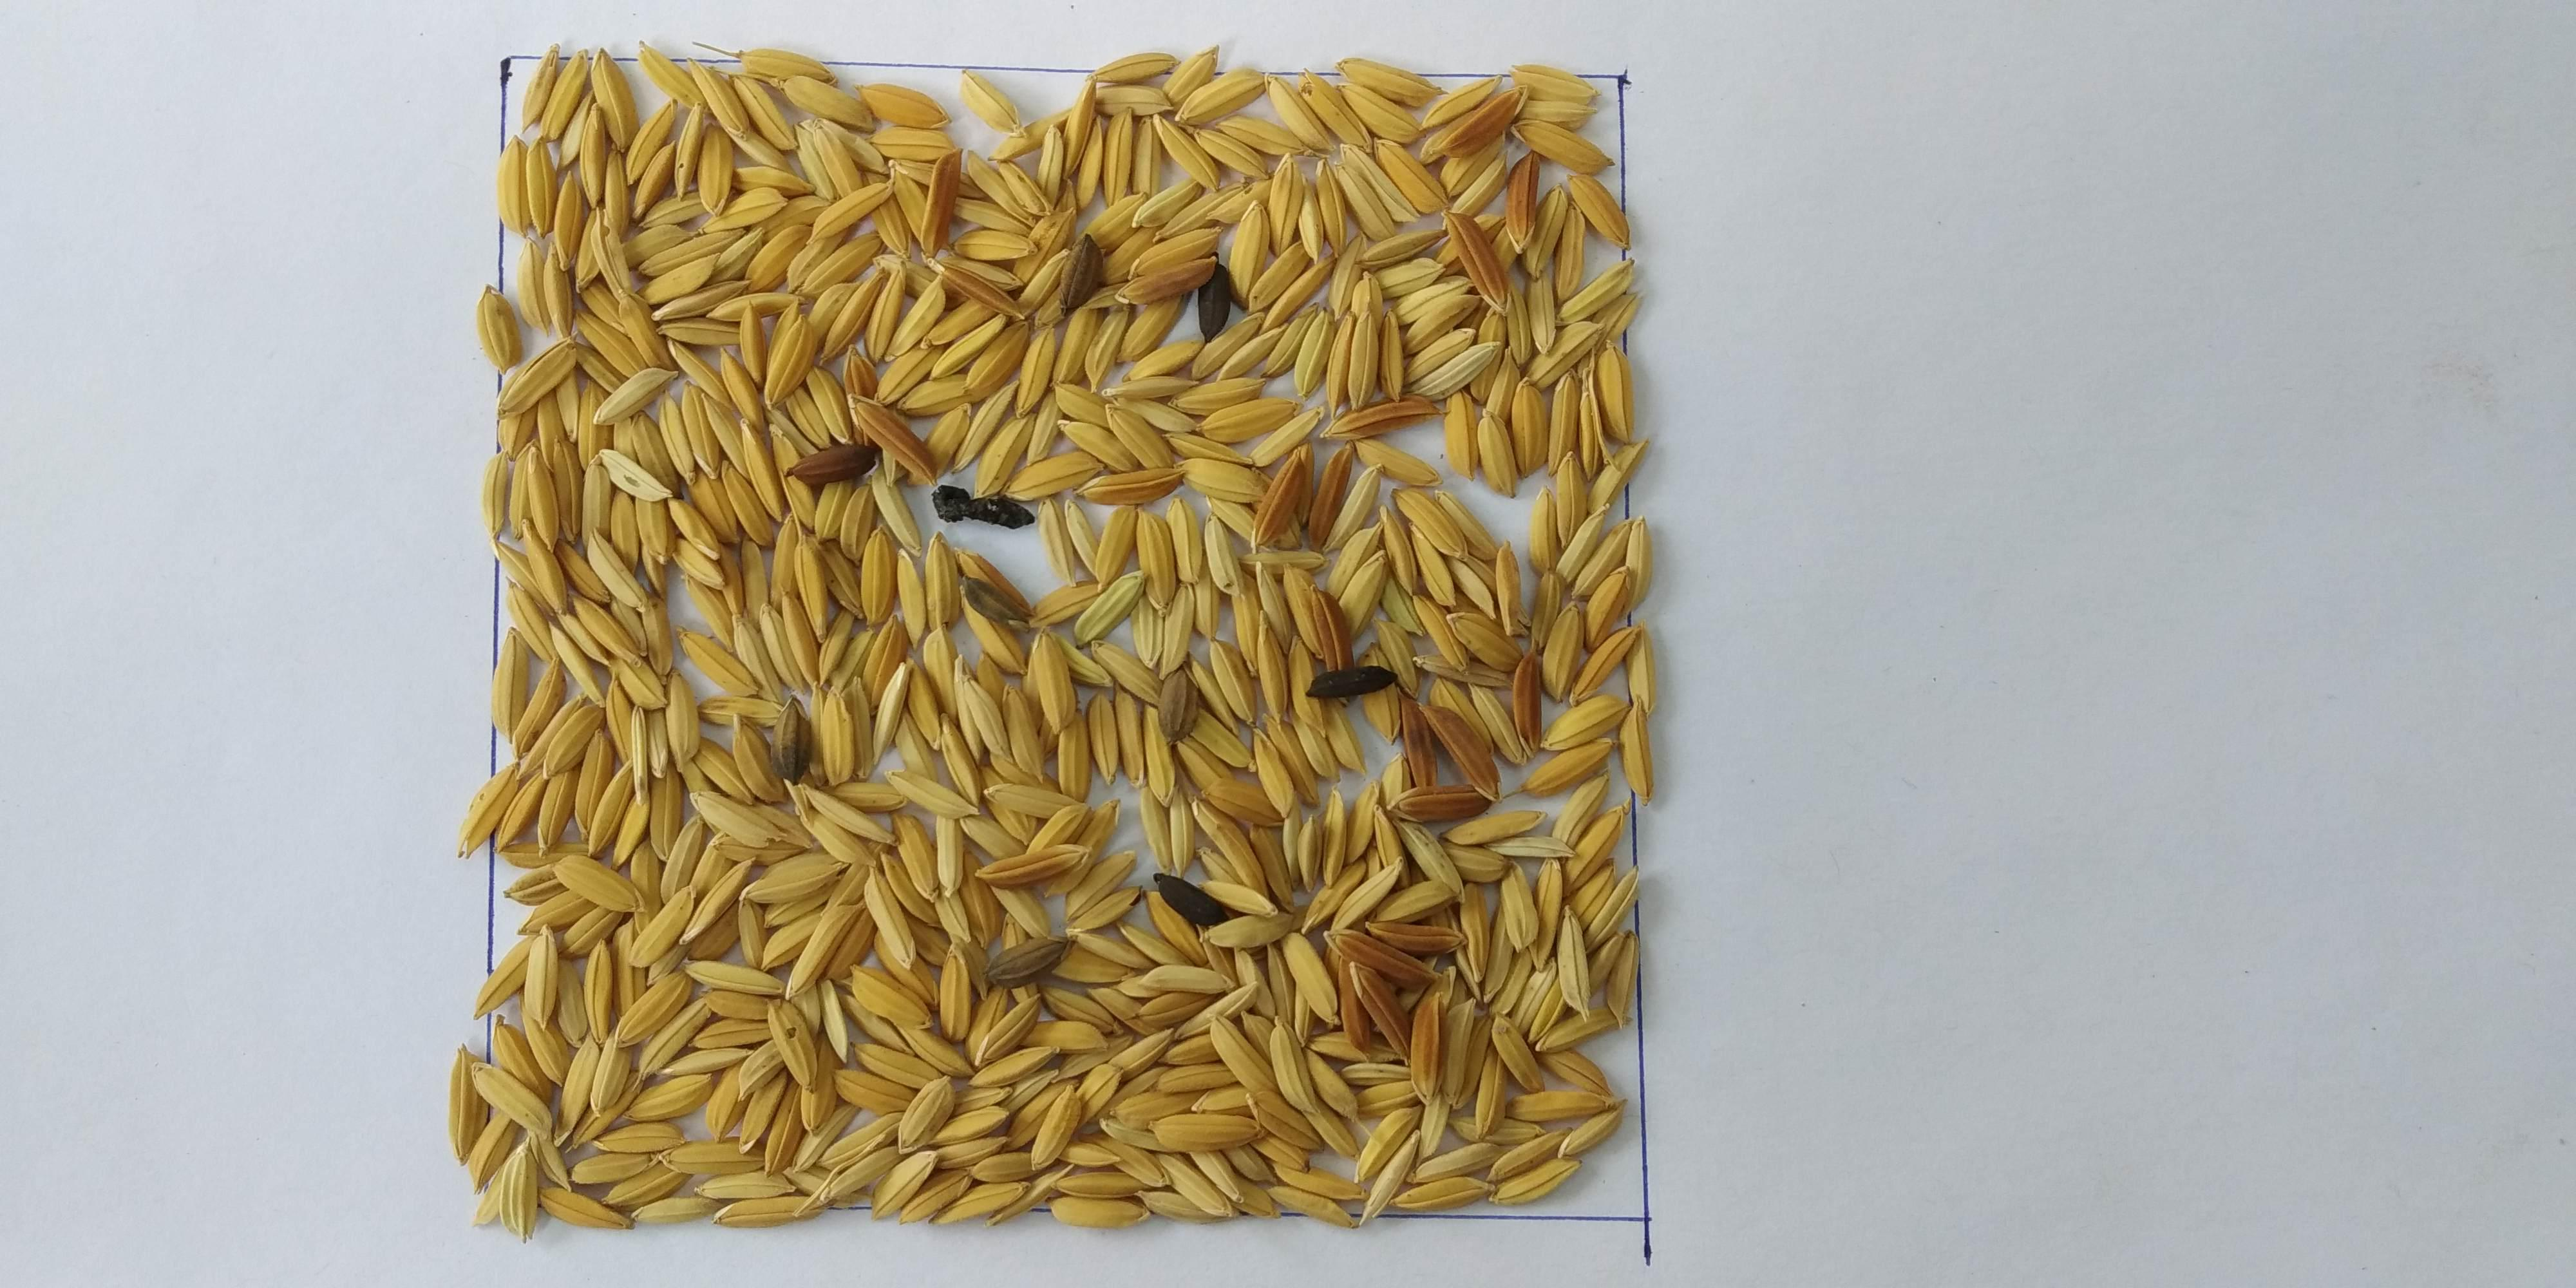Partialimpure: (527, 56, 1605, 1199)
